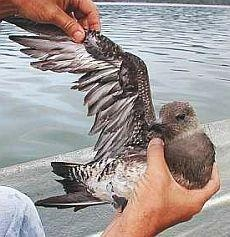bird: (19, 18, 213, 209)
